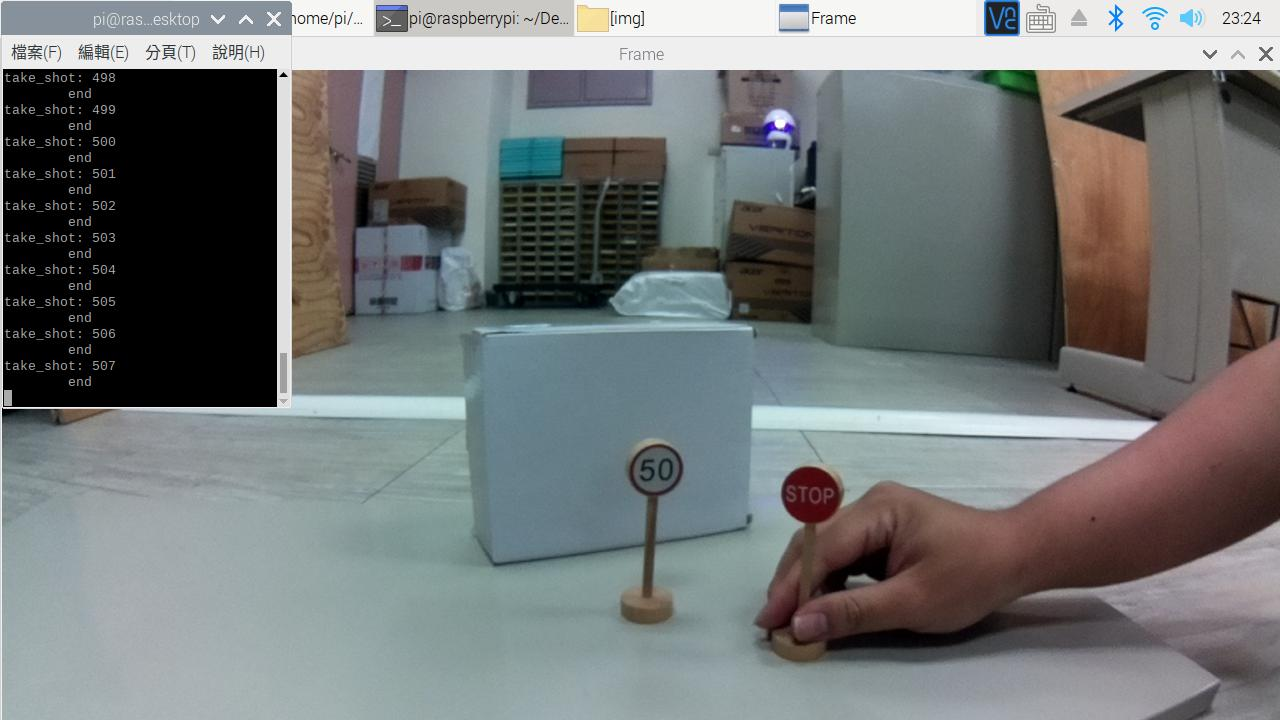Speed50: (620, 434, 701, 505)
Stop: (779, 461, 848, 530)
